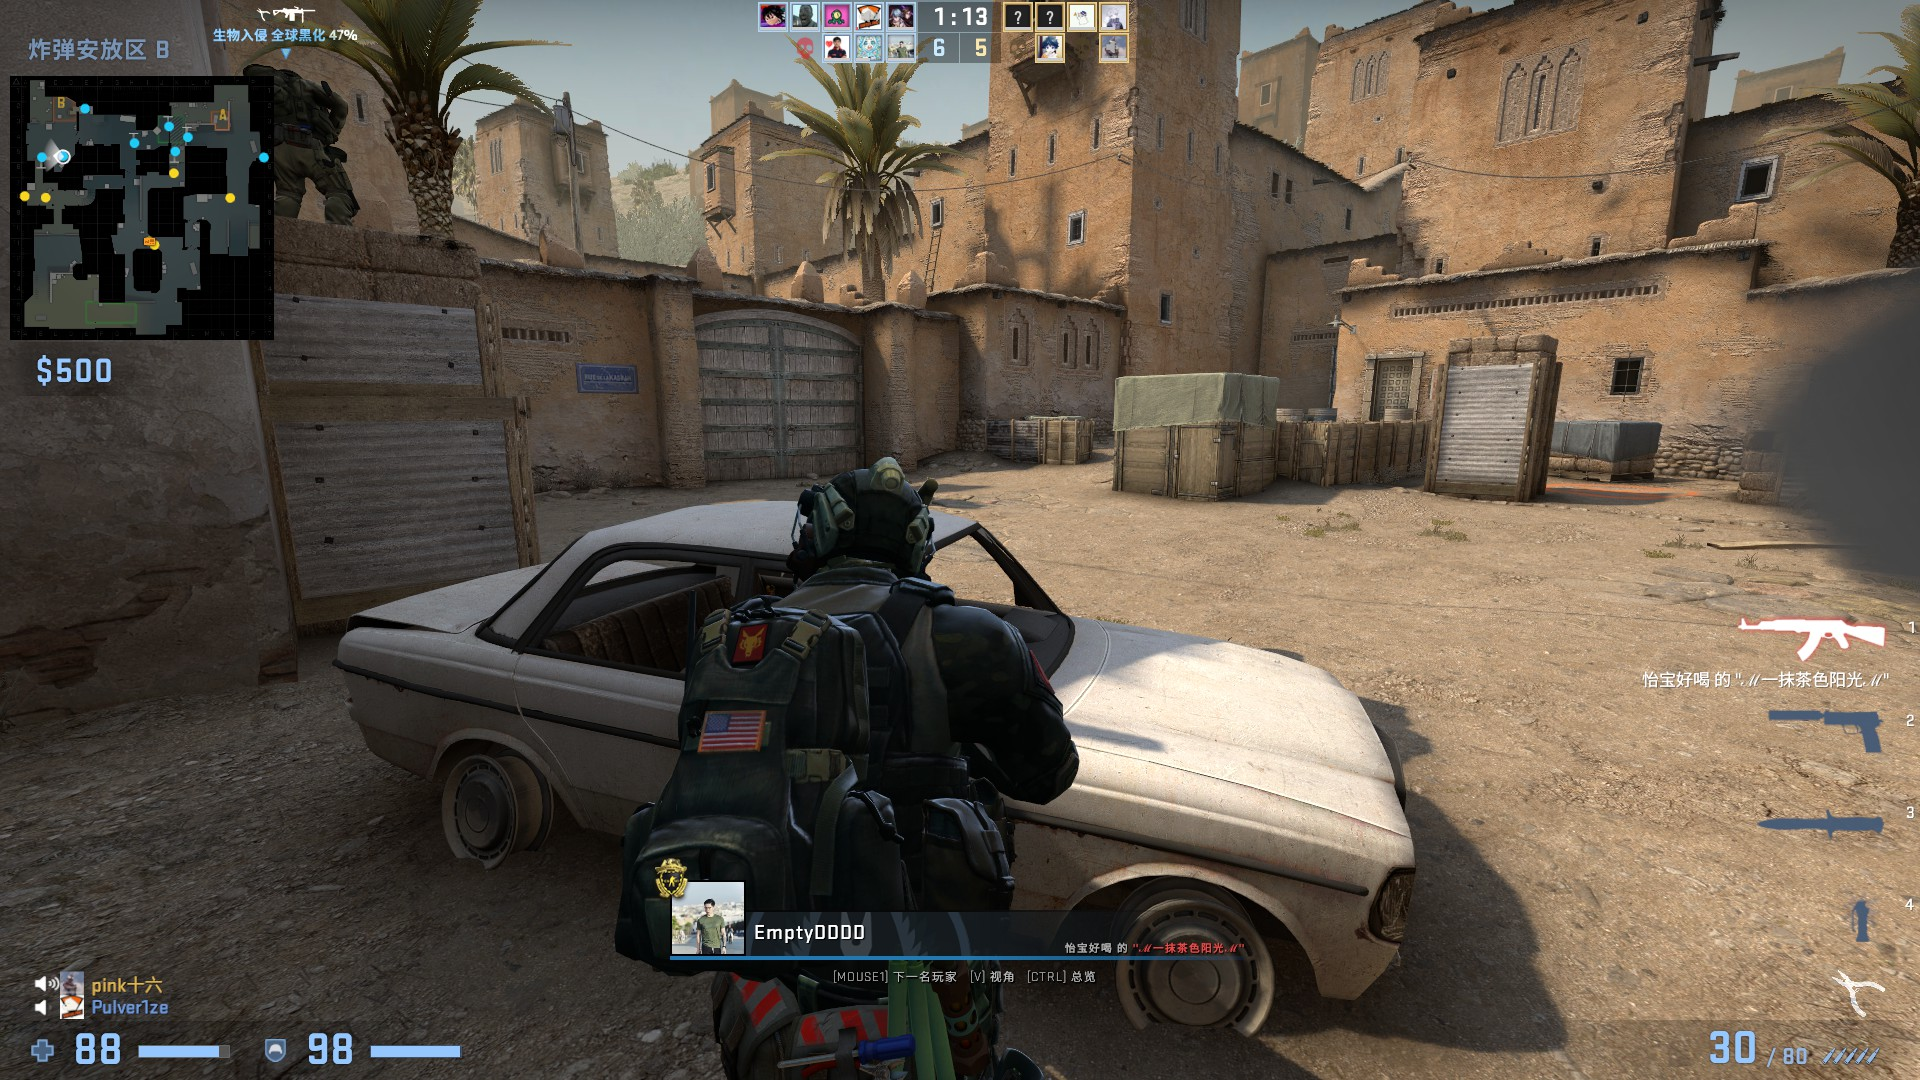head: (786, 459, 950, 591)
